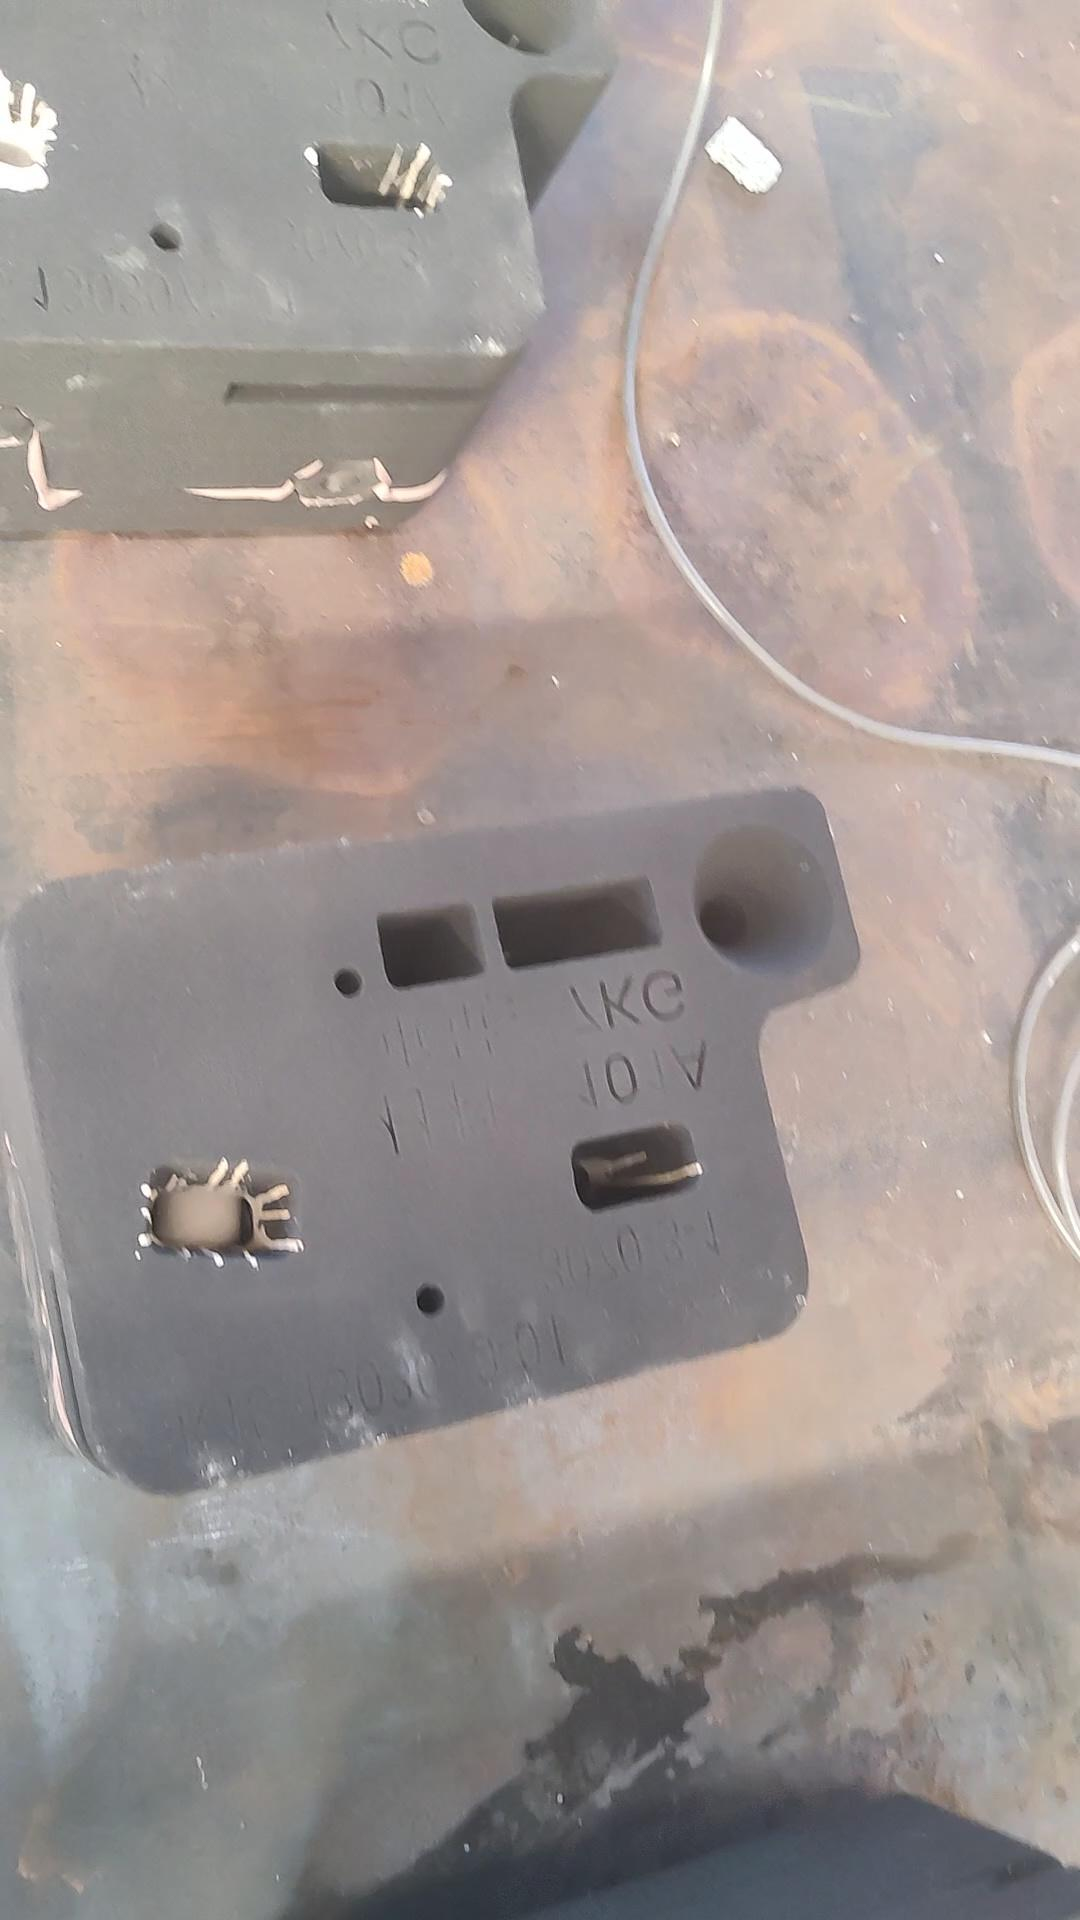pouring hole: (694, 822, 836, 978), (462, 1, 597, 55)
